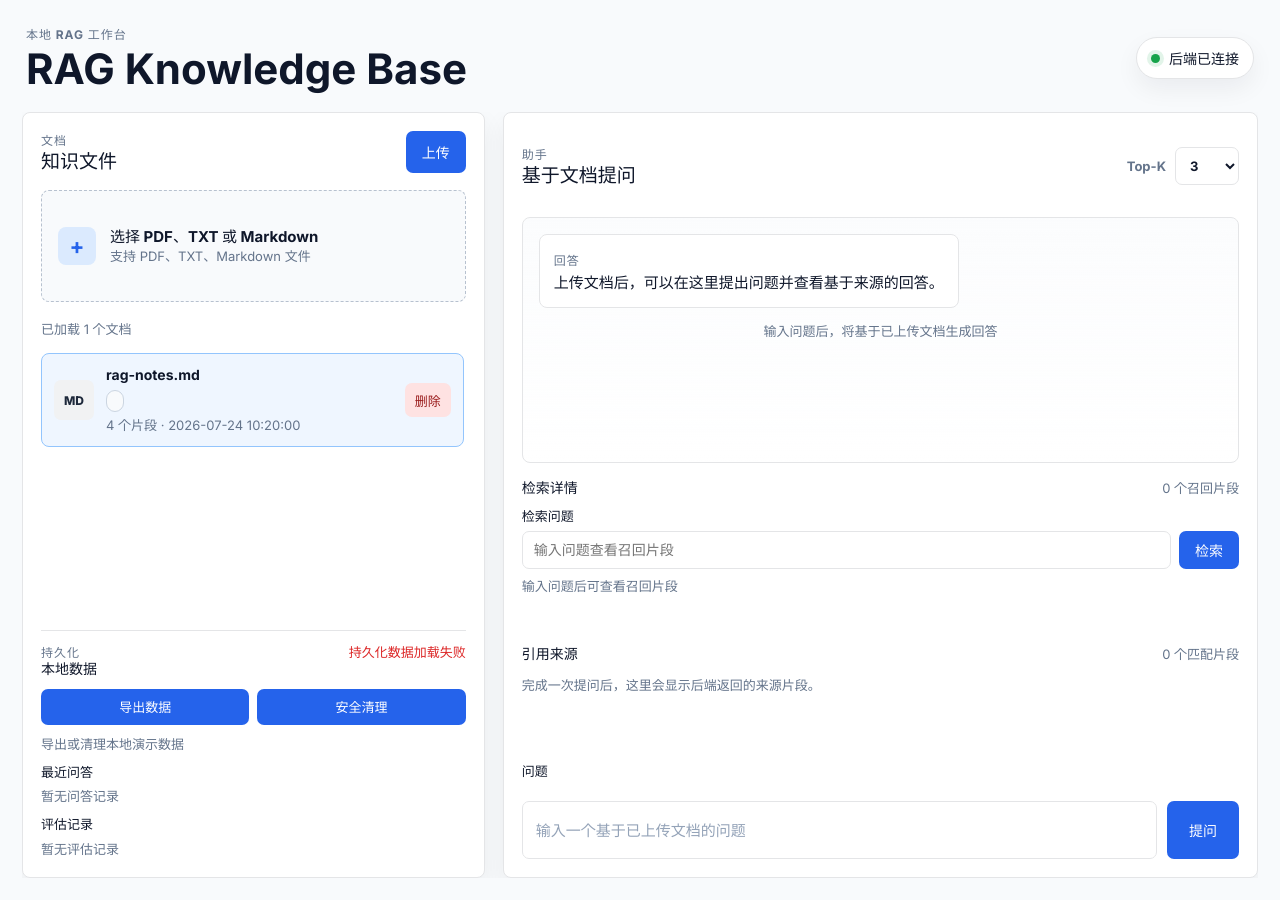
Test: App chat workflow › submits a question with the selected Top-K and renders the answer with sources
expect the text "后端已连接" is shown: met, box [1169,48,1239,68]
Select "5" in the dropdown named "Top-K 来源数量" at (1207, 166), box [1175,147,1239,185]
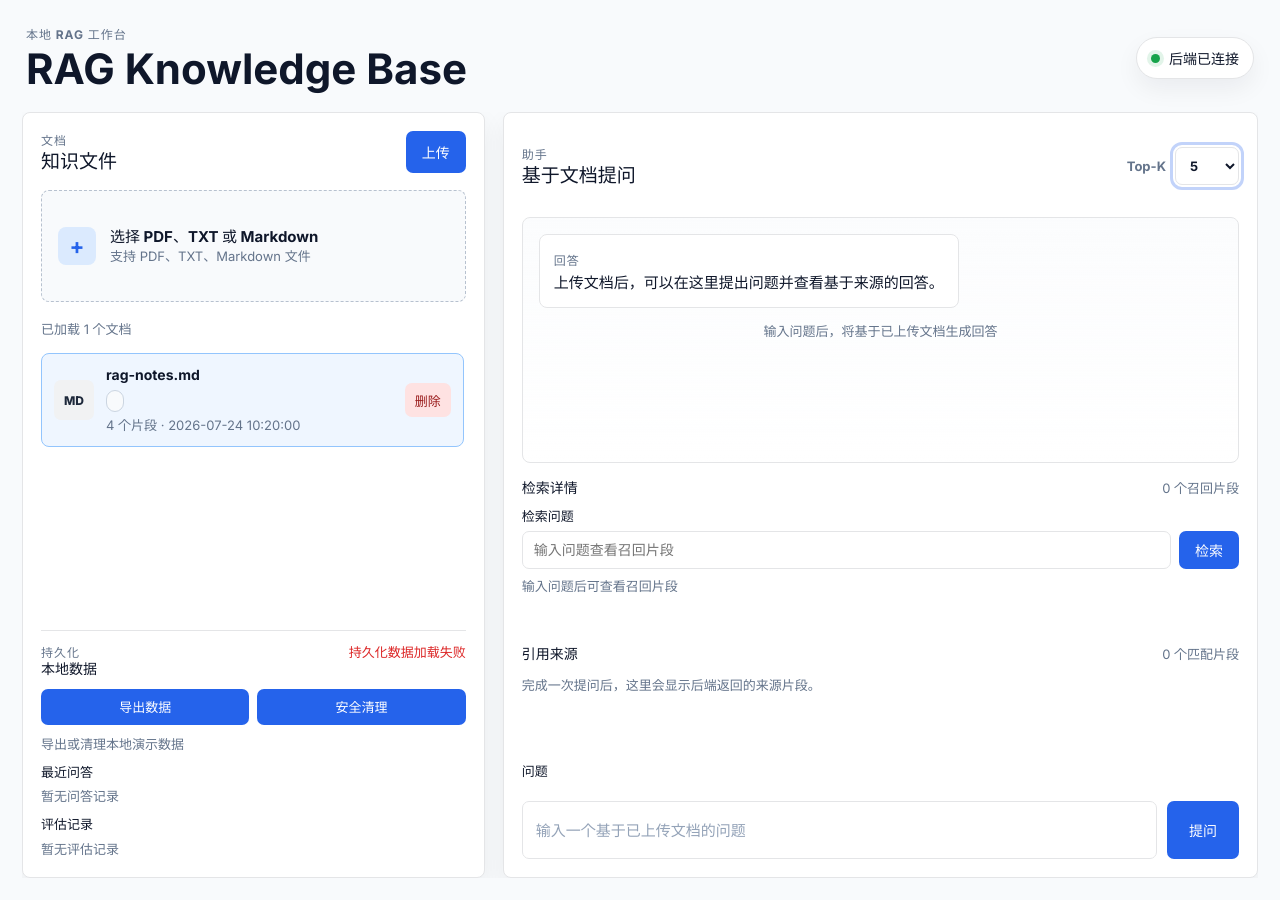
Type "RAG 的回答来源如何展示？" into the field labelled "问题".
click(839, 830); type("RAG 的回答来源如何展示？")  # box [522,802,1157,859]
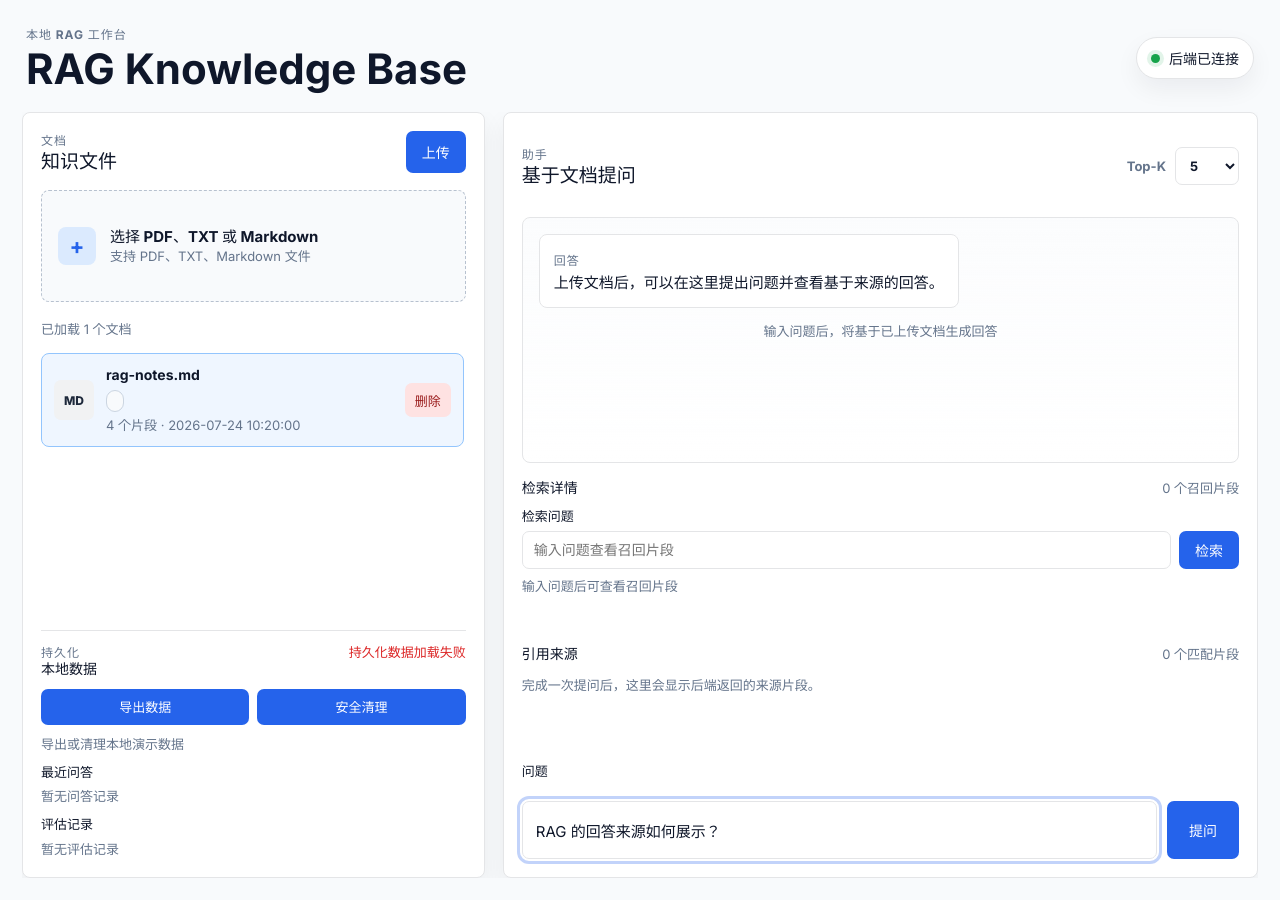
Click the button "提问".
click(1203, 830)  # box [1167,802,1239,859]
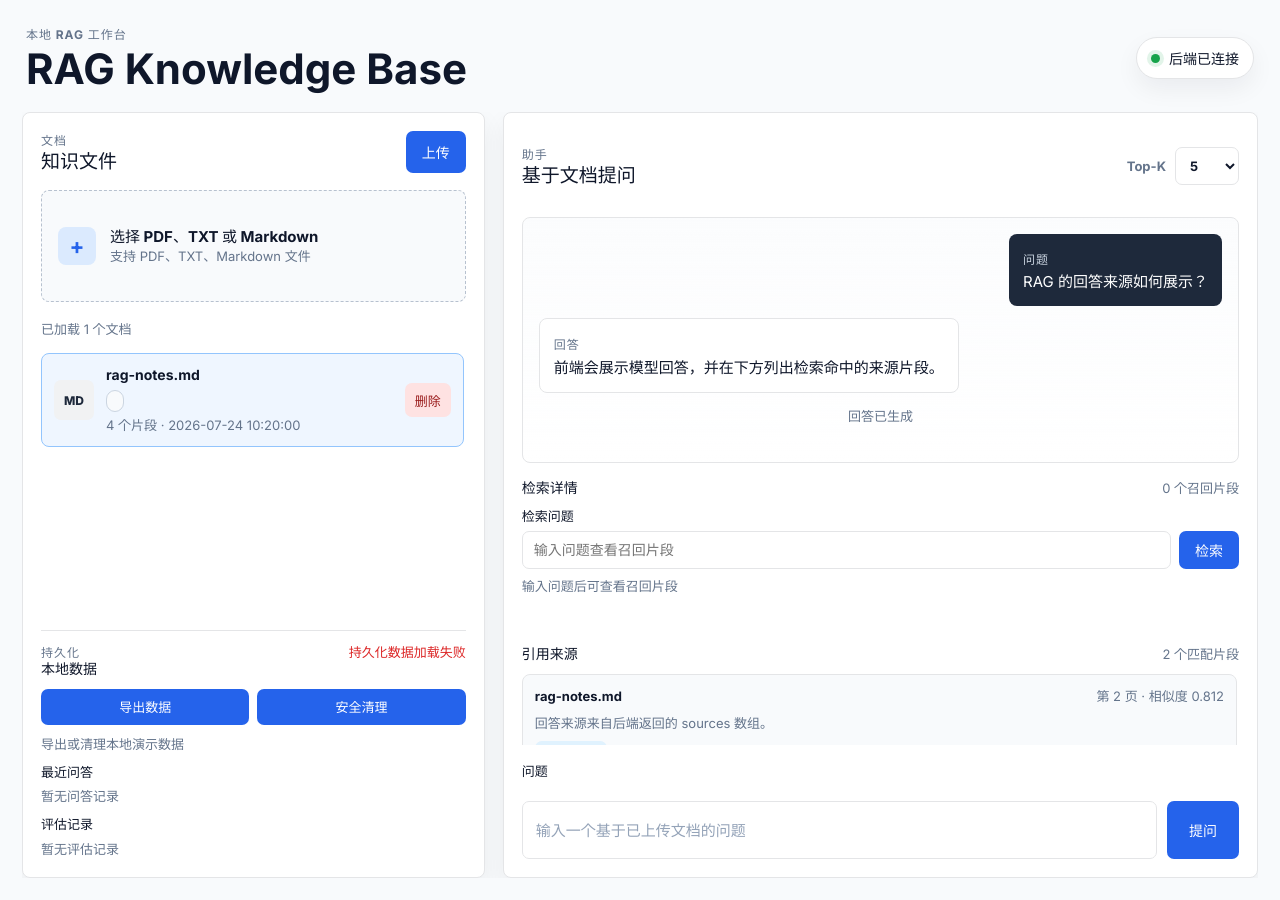
expect the text "前端会展示模型回答，并在下方列出检索命中的来源片段。" is shown: met, box [554,356,944,379]
expect the text "第 2 页 · 相似度 0.812" is shown 2 times: met
expect the text "回答来源来自后端返回的 sources 数组。" is shown: met, box [535,715,773,731]
